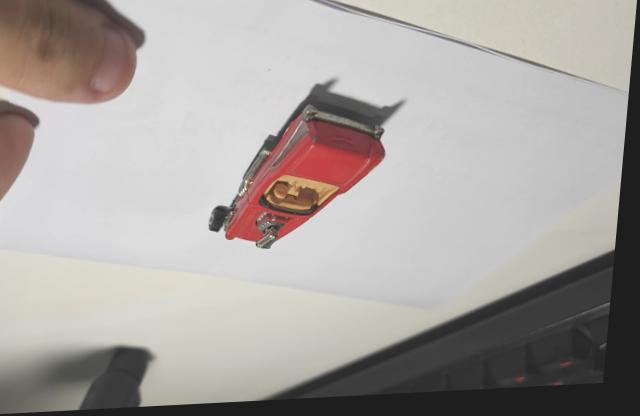03_V8: (212, 86, 407, 251)
